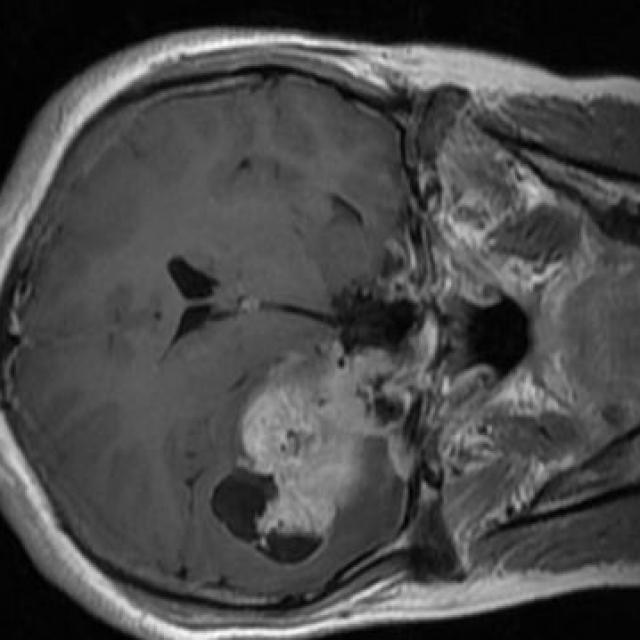meningioma: (210, 349, 396, 563)
